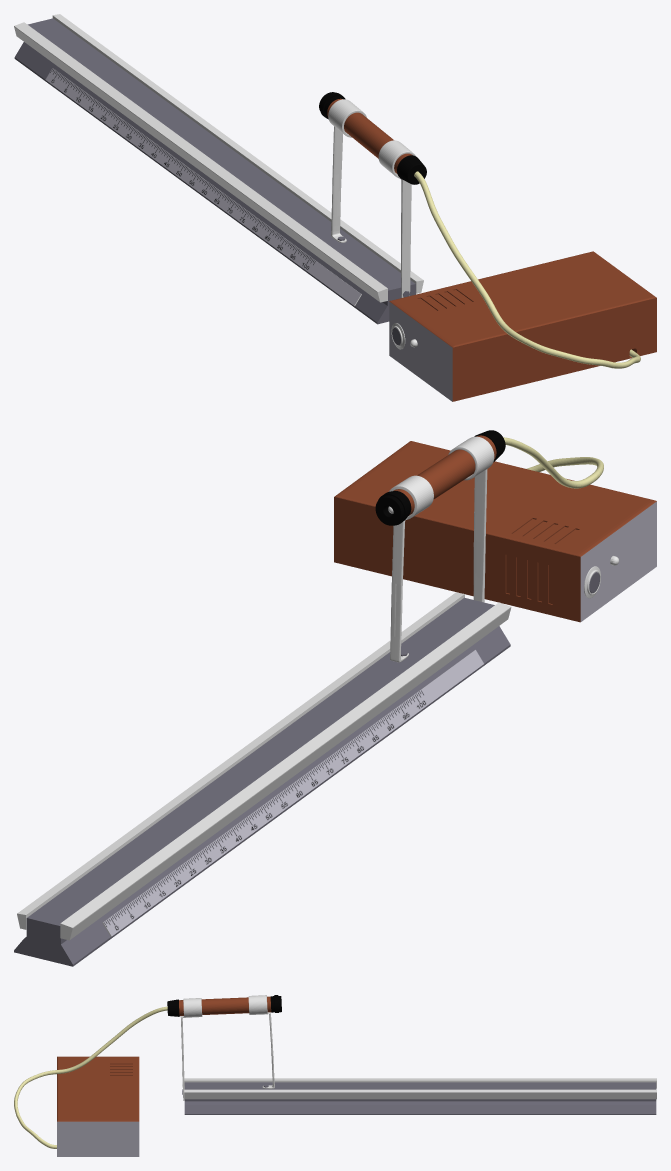
File: laser_edited.fbx
The picture shows the model from 3 angles, top to bottom: view 1: azimuth 30°, elevation 25°; view 2: azimuth 150°, elevation 25°; view 3: azimuth 270°, elevation 25°; orthographic projection. The views are drawn at different scales.
Parts seen in each view (by area): view 1: bench, source, laser_stand, laser_wire, laser_stick; view 2: bench, source, laser_stand, laser_stick, laser_wire; view 3: bench, source, laser_stick, laser_stand, laser_wire.
Boxes of the visible parts, box(x1,y1,x2,y2) form: bench: box(14, 14, 423, 324); source: box(389, 251, 656, 401); laser_stand: box(328, 99, 415, 297); laser_wire: box(414, 171, 640, 368); laser_stick: box(319, 92, 426, 184); bench: box(14, 592, 511, 966); source: box(334, 441, 656, 622); laser_stand: box(389, 436, 494, 662); laser_stick: box(375, 430, 505, 525); laser_wire: box(503, 437, 603, 488); bench: box(184, 1078, 656, 1114); source: box(57, 1056, 139, 1156); laser_stick: box(167, 995, 281, 1016); laser_stand: box(180, 995, 274, 1100); laser_wire: box(14, 1006, 167, 1148).
Bounding box in the file's own units: 958 × 753 × 3917.
